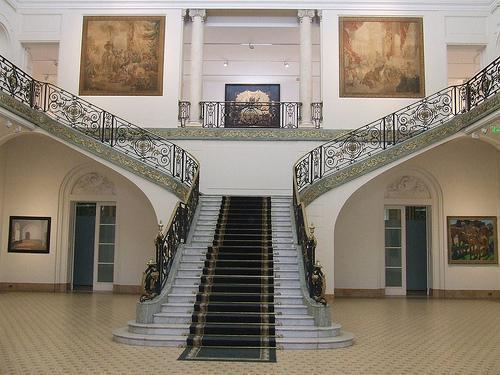Escaleras: (116, 186, 355, 349)
